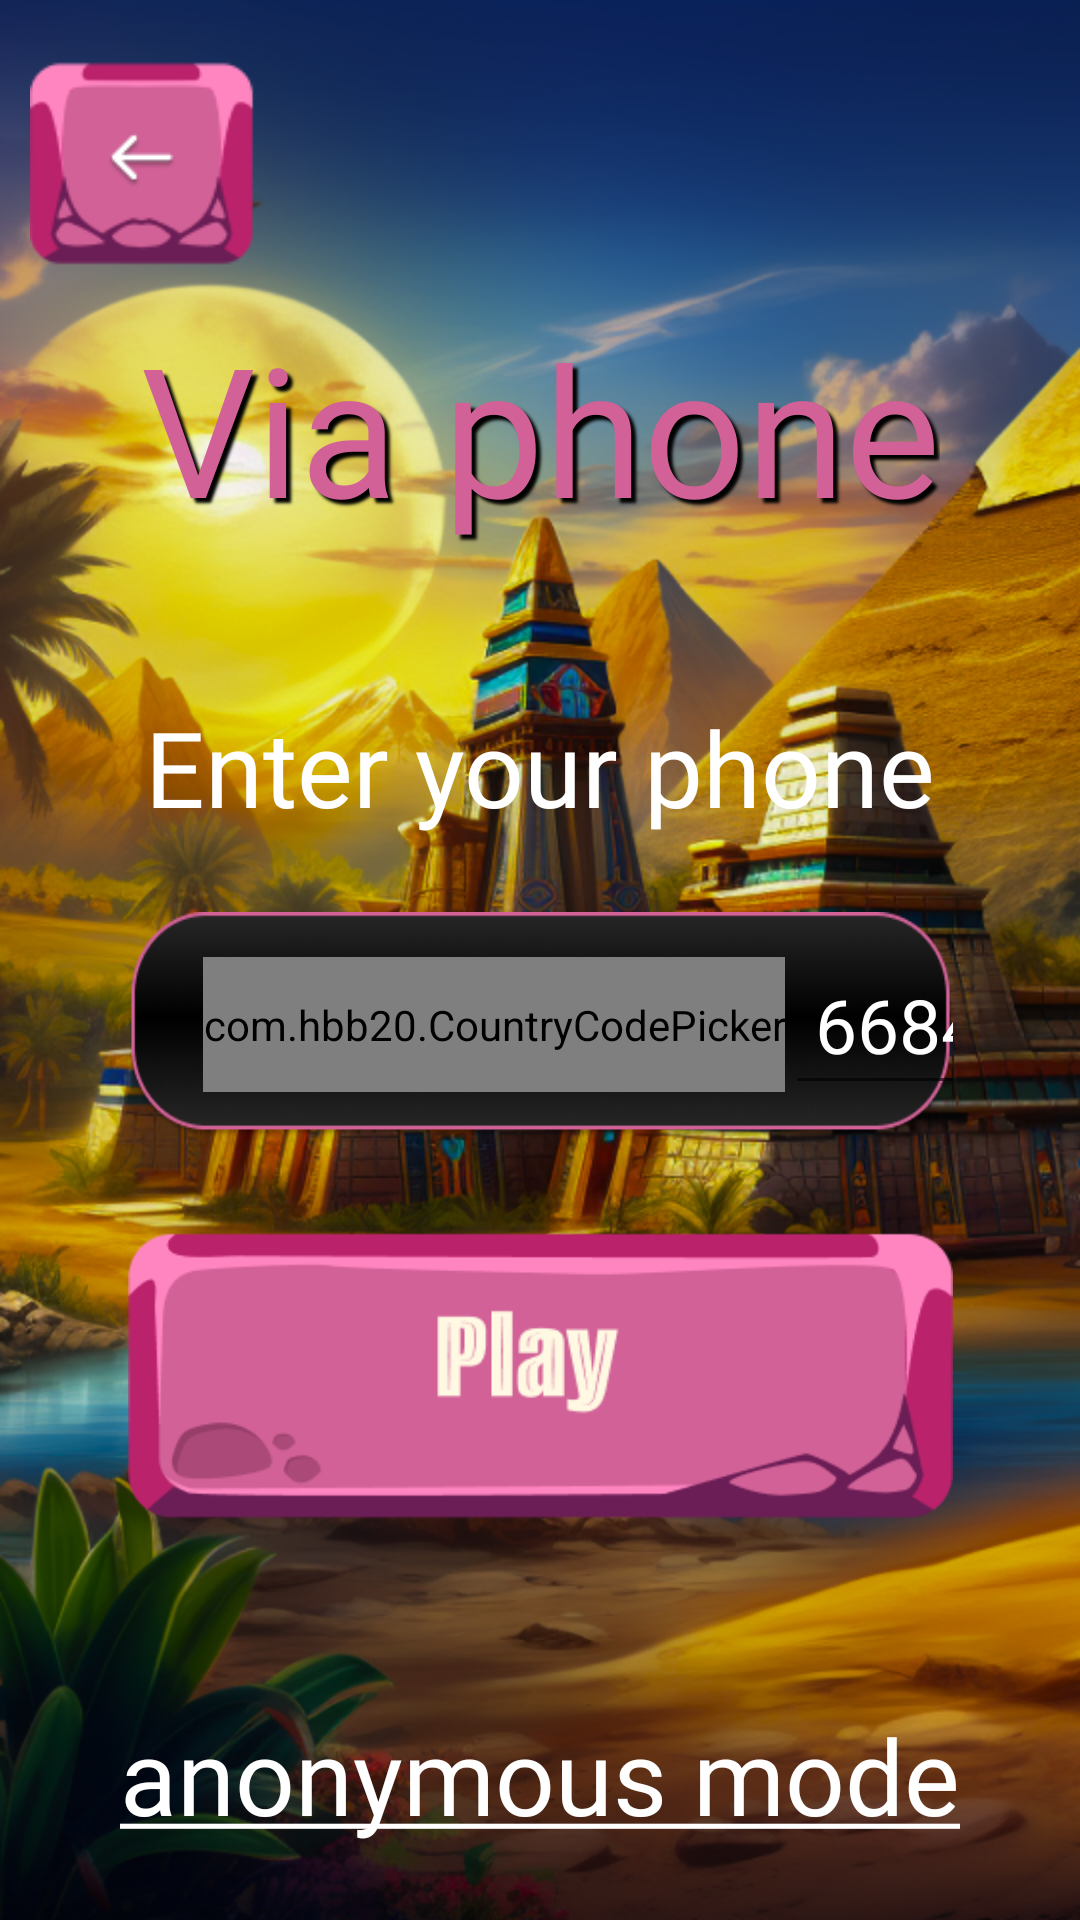

Named icons in this screenshot (1080 x 1920) and their centers, (x,y):
back: (142,163)
